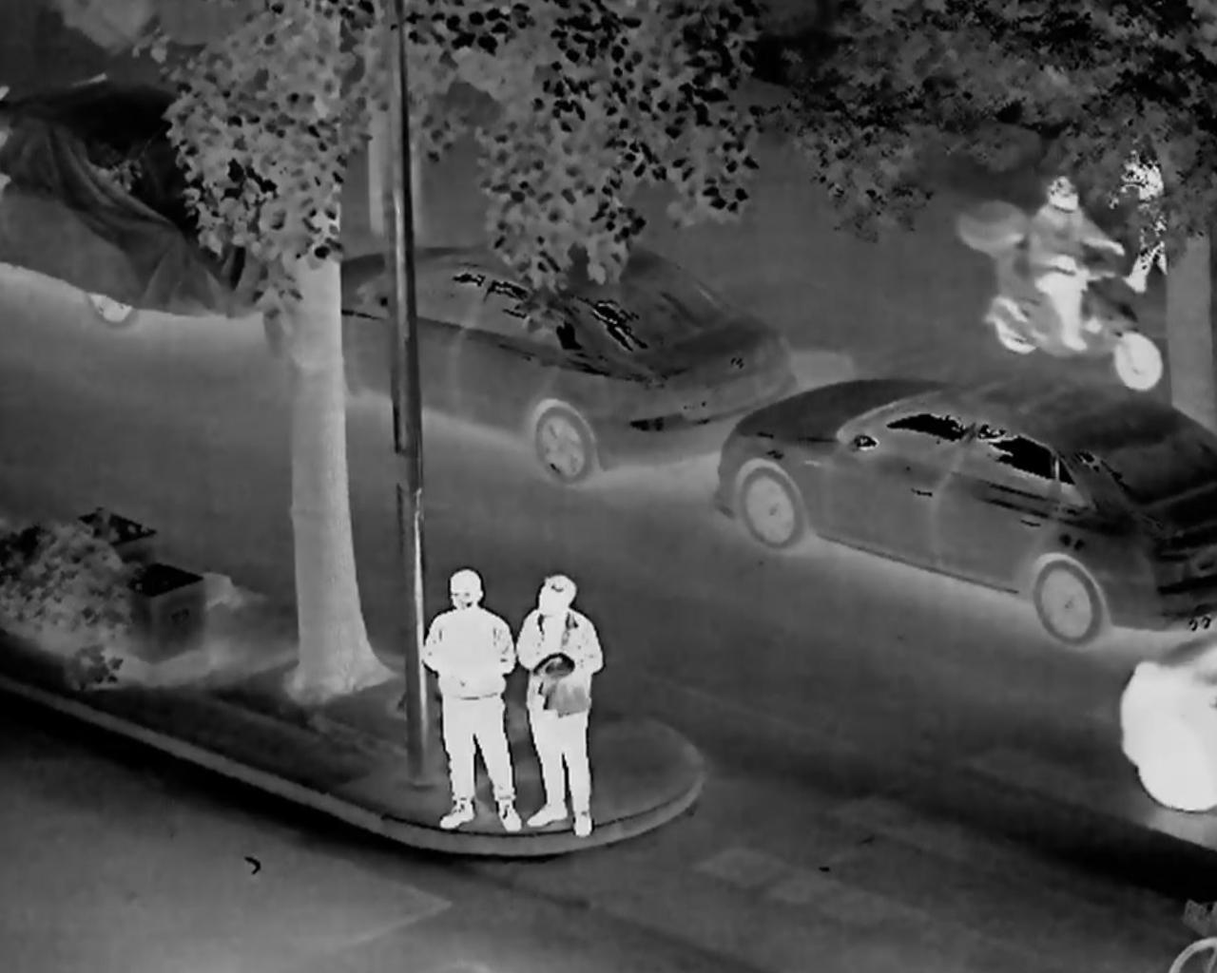person: (421, 554, 528, 830), (513, 562, 599, 839), (1026, 168, 1129, 372), (1112, 150, 1168, 293)
